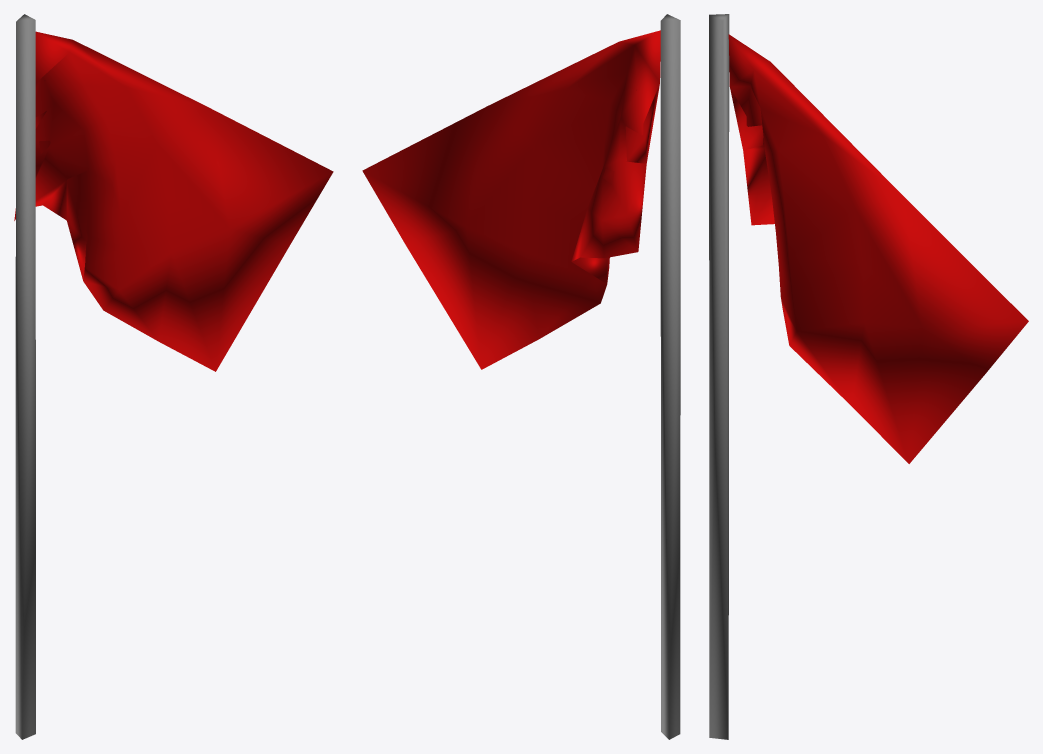
Rendered from RedFlag.obj.
3 renders of one model, left to right at view 1: azimuth 30°, elevation 25°; view 2: azimuth 150°, elevation 25°; view 3: azimuth 330°, elevation 25°, orthographic.
Parts seen in each view (by area): view 1: objFlag; view 2: objFlag; view 3: objFlag.
Boxes of the visible parts, x1,y1,x2,y2 form: objFlag: (14, 14, 333, 739); objFlag: (362, 14, 680, 739); objFlag: (709, 14, 1028, 739).
Bounding box in the file's own units: 11.81 × 25.44 × 3.18.
